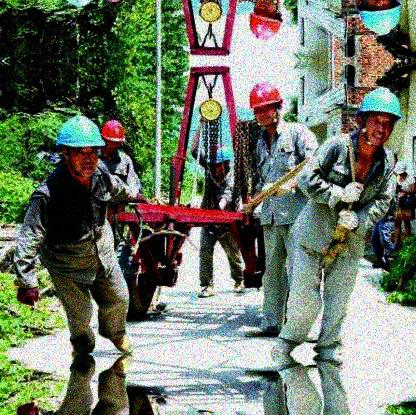helmet: (52, 116, 107, 178), (355, 85, 402, 149), (356, 1, 402, 38), (248, 82, 284, 128), (248, 1, 284, 41), (102, 120, 126, 155), (206, 147, 231, 180)
